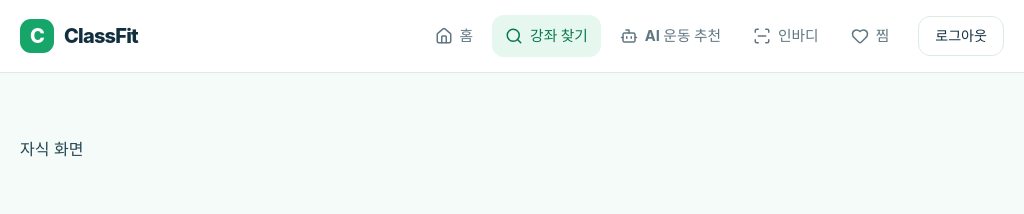
Test: AppShell › keeps_logout_visible_when_server_rejects_logout
Click the button "로그아웃".
click(961, 36)  # box [918, 16, 1004, 56]
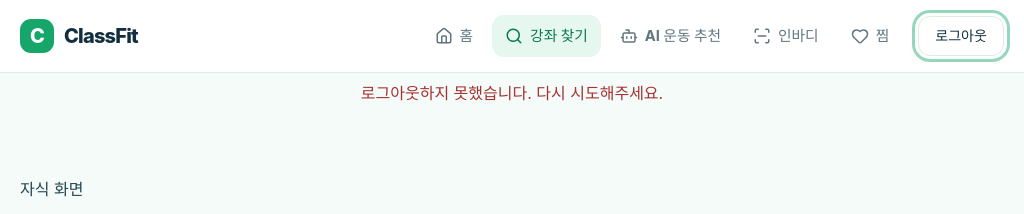
Check: the message shows "로그아웃하지 못했습니다.", box [361, 83, 663, 103]
